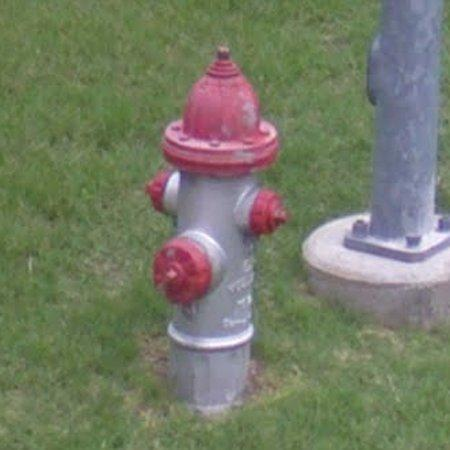a fire hydrant: (147, 47, 289, 413)
